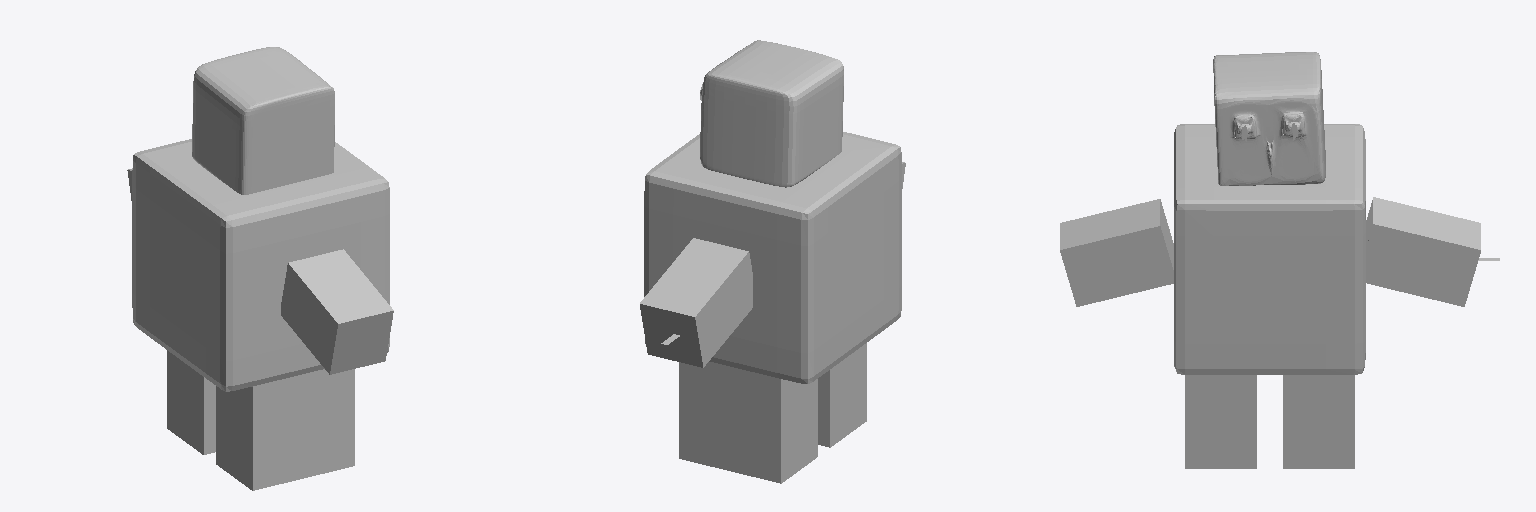
3 views of the same model, side by side, from view 1: azimuth 30°, elevation 25°; view 2: azimuth 150°, elevation 25°; view 3: azimuth 270°, elevation 25° (orthographic).
Parts seen in each view (by area): view 1: Cube_Cube.001, Cube.001_Cube.002, CollisionLL_Cube.003, Cube.005_Cube.007, Cube.003_Cube.004; view 2: Cube_Cube.001, Cube.001_Cube.002, Cube.003_Cube.004, Cube.004_Cube.005, CollisionLL_Cube.003; view 3: Cube_Cube.001, Cube.001_Cube.002, Cube.004_Cube.005, Cube.005_Cube.007, Cube.003_Cube.004, CollisionLL_Cube.003.
Boxes of the visible parts, box(x1,y1,x2,y2) form: Cube_Cube.001: box(132, 139, 389, 391); Cube.001_Cube.002: box(192, 47, 334, 194); CollisionLL_Cube.003: box(216, 369, 354, 490); Cube.005_Cube.007: box(281, 249, 393, 374); Cube.003_Cube.004: box(167, 350, 215, 454); Cube_Cube.001: box(644, 132, 901, 383); Cube.001_Cube.002: box(700, 40, 843, 187); Cube.003_Cube.004: box(679, 362, 817, 483); Cube.004_Cube.005: box(640, 238, 752, 367); CollisionLL_Cube.003: box(818, 343, 866, 447); Cube_Cube.001: box(1174, 124, 1365, 374); Cube.001_Cube.002: box(1213, 52, 1325, 185); Cube.004_Cube.005: box(1366, 197, 1480, 306); Cube.005_Cube.007: box(1060, 199, 1173, 306); Cube.003_Cube.004: box(1283, 375, 1354, 468); CollisionLL_Cube.003: box(1185, 375, 1256, 468).
Size of the model in its own units: 1.46 by 3.14 by 3.34.